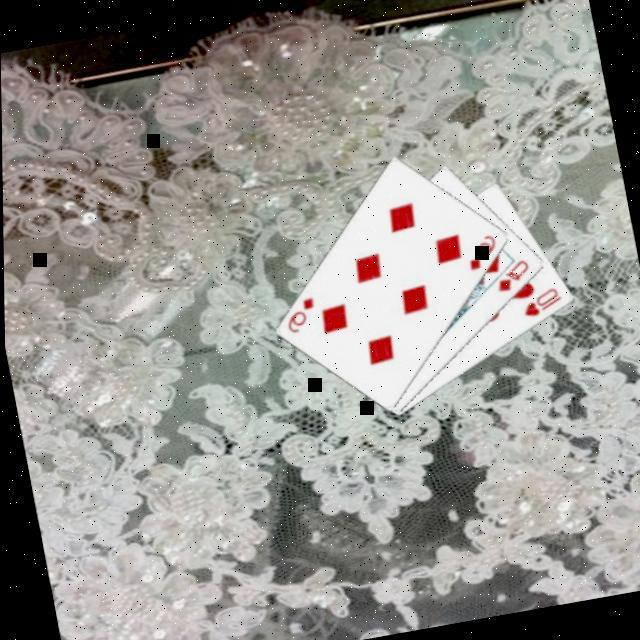10H: (518, 282, 568, 322)
6D: (462, 230, 505, 274), (280, 294, 323, 338)
QD: (490, 256, 536, 296)
